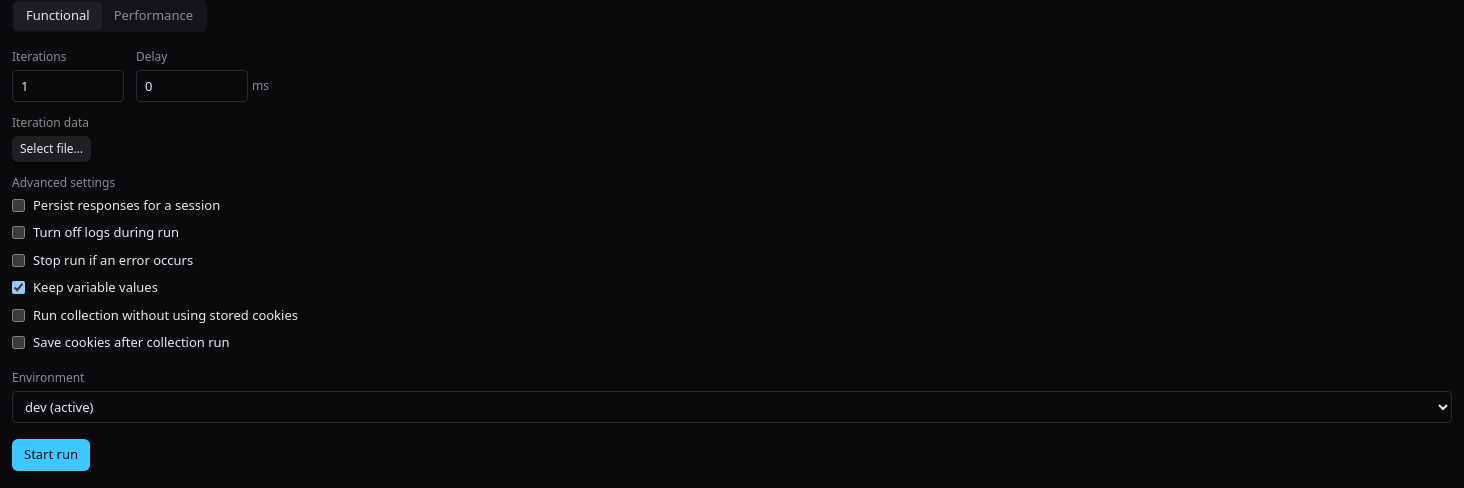
it: RunSettings › switches to the performance settings
Click the radio button labelled "Performance" at (153, 15), box 114,6 -> 193,24
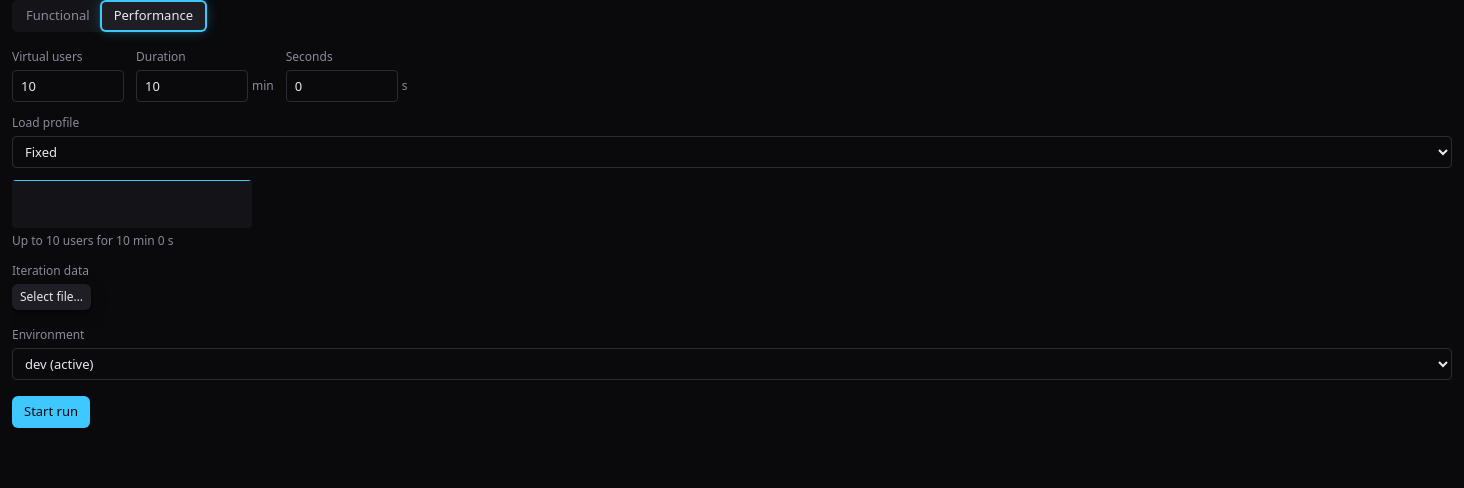
Check: the number field labelled "Virtual users" holds "10", box 12,70 -> 124,102
